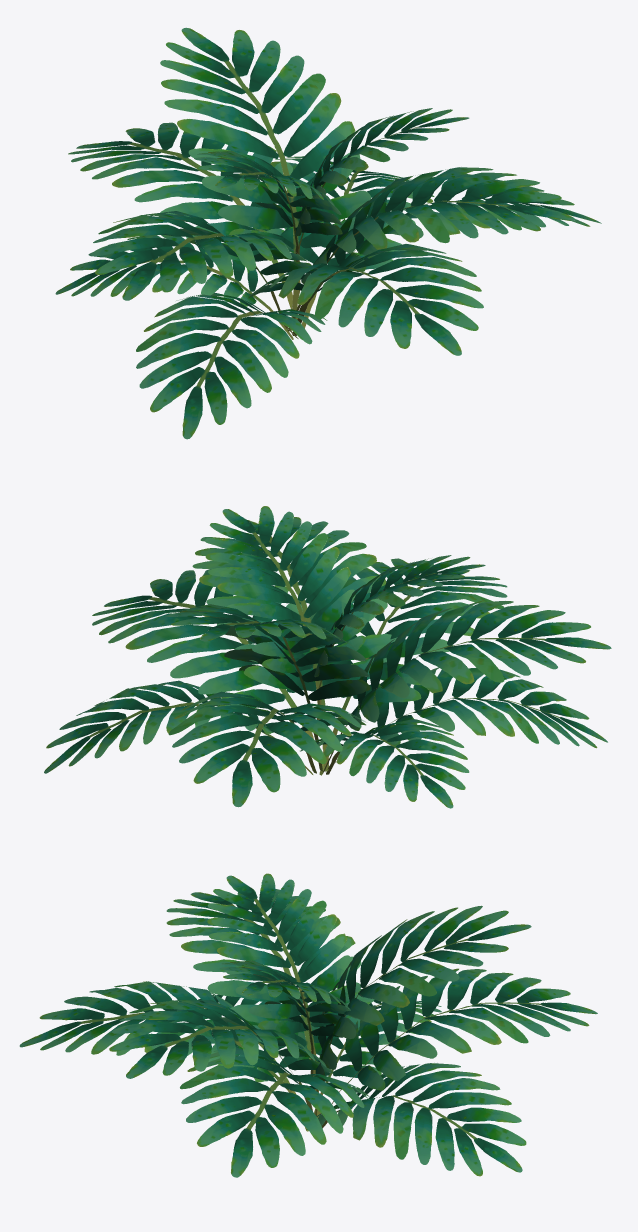
Rendered from bush_01.fbx.
3 renders of one model, top to bottom at view 1: azimuth 30°, elevation 25°; view 2: azimuth 150°, elevation 25°; view 3: azimuth 270°, elevation 25°, orthographic. The views are drawn at different scales.
Visible parts, largest first — view 1: bush_01.026; view 2: bush_01.026; view 3: bush_01.026.
Part boxes in pixels (x1,y1,x2,y2): bush_01.026: (55, 27, 601, 439); bush_01.026: (44, 506, 611, 808); bush_01.026: (19, 873, 597, 1177).
Bounding box in the file's own units: 469 × 188 × 464.
